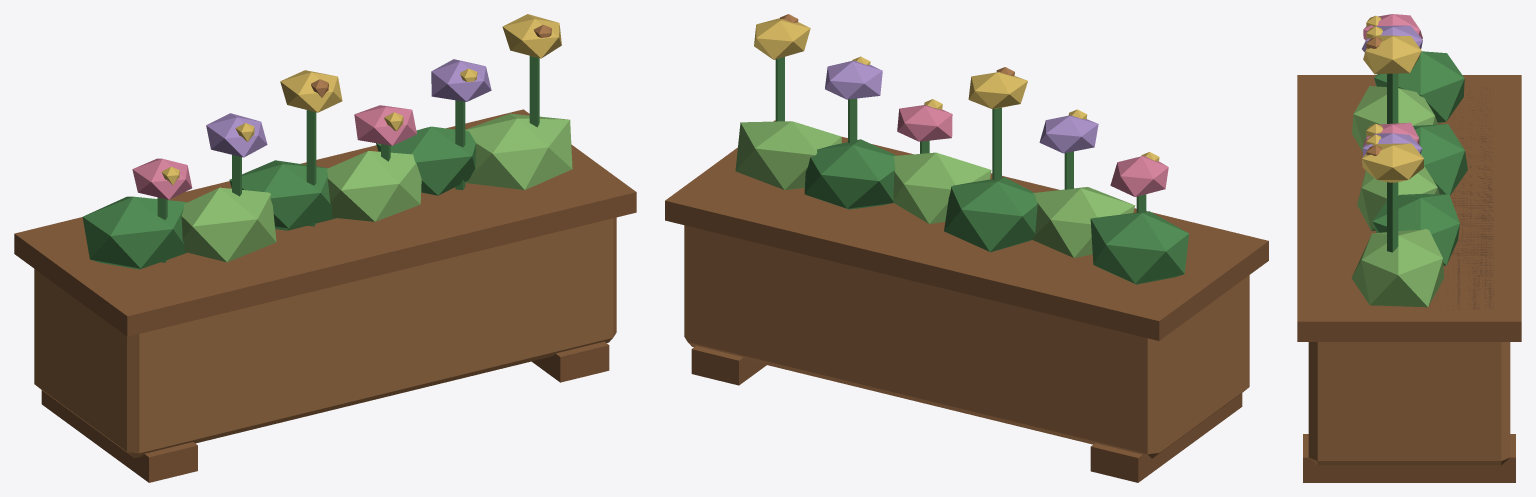
File: ranch_flower_planter.fbx
3 renders of one model, left to right at view 1: azimuth 30°, elevation 25°; view 2: azimuth 150°, elevation 25°; view 3: azimuth 270°, elevation 25°, orthographic. The views are drawn at different scales.
Visible parts, largest first — view 1: ranch_flower_planter; view 2: ranch_flower_planter; view 3: ranch_flower_planter.
Part boxes in pixels (<box>): ranch_flower_planter: <box>14,14,636,482</box>; ranch_flower_planter: <box>665,14,1268,482</box>; ranch_flower_planter: <box>1297,14,1521,482</box>.
Size of the model in its own units: 5.2 by 3.19 by 2.
